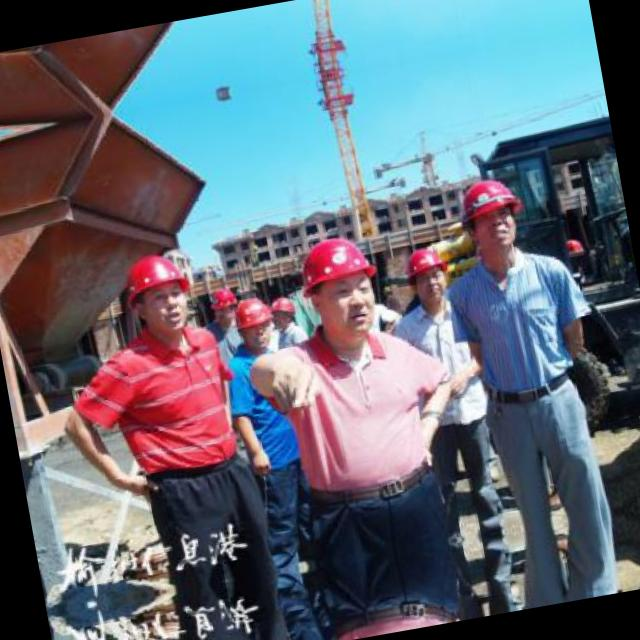helmet: (278, 228, 380, 338), (112, 242, 200, 346), (452, 167, 533, 268), (400, 242, 453, 308), (232, 295, 270, 344), (266, 290, 300, 332), (206, 285, 235, 324)
